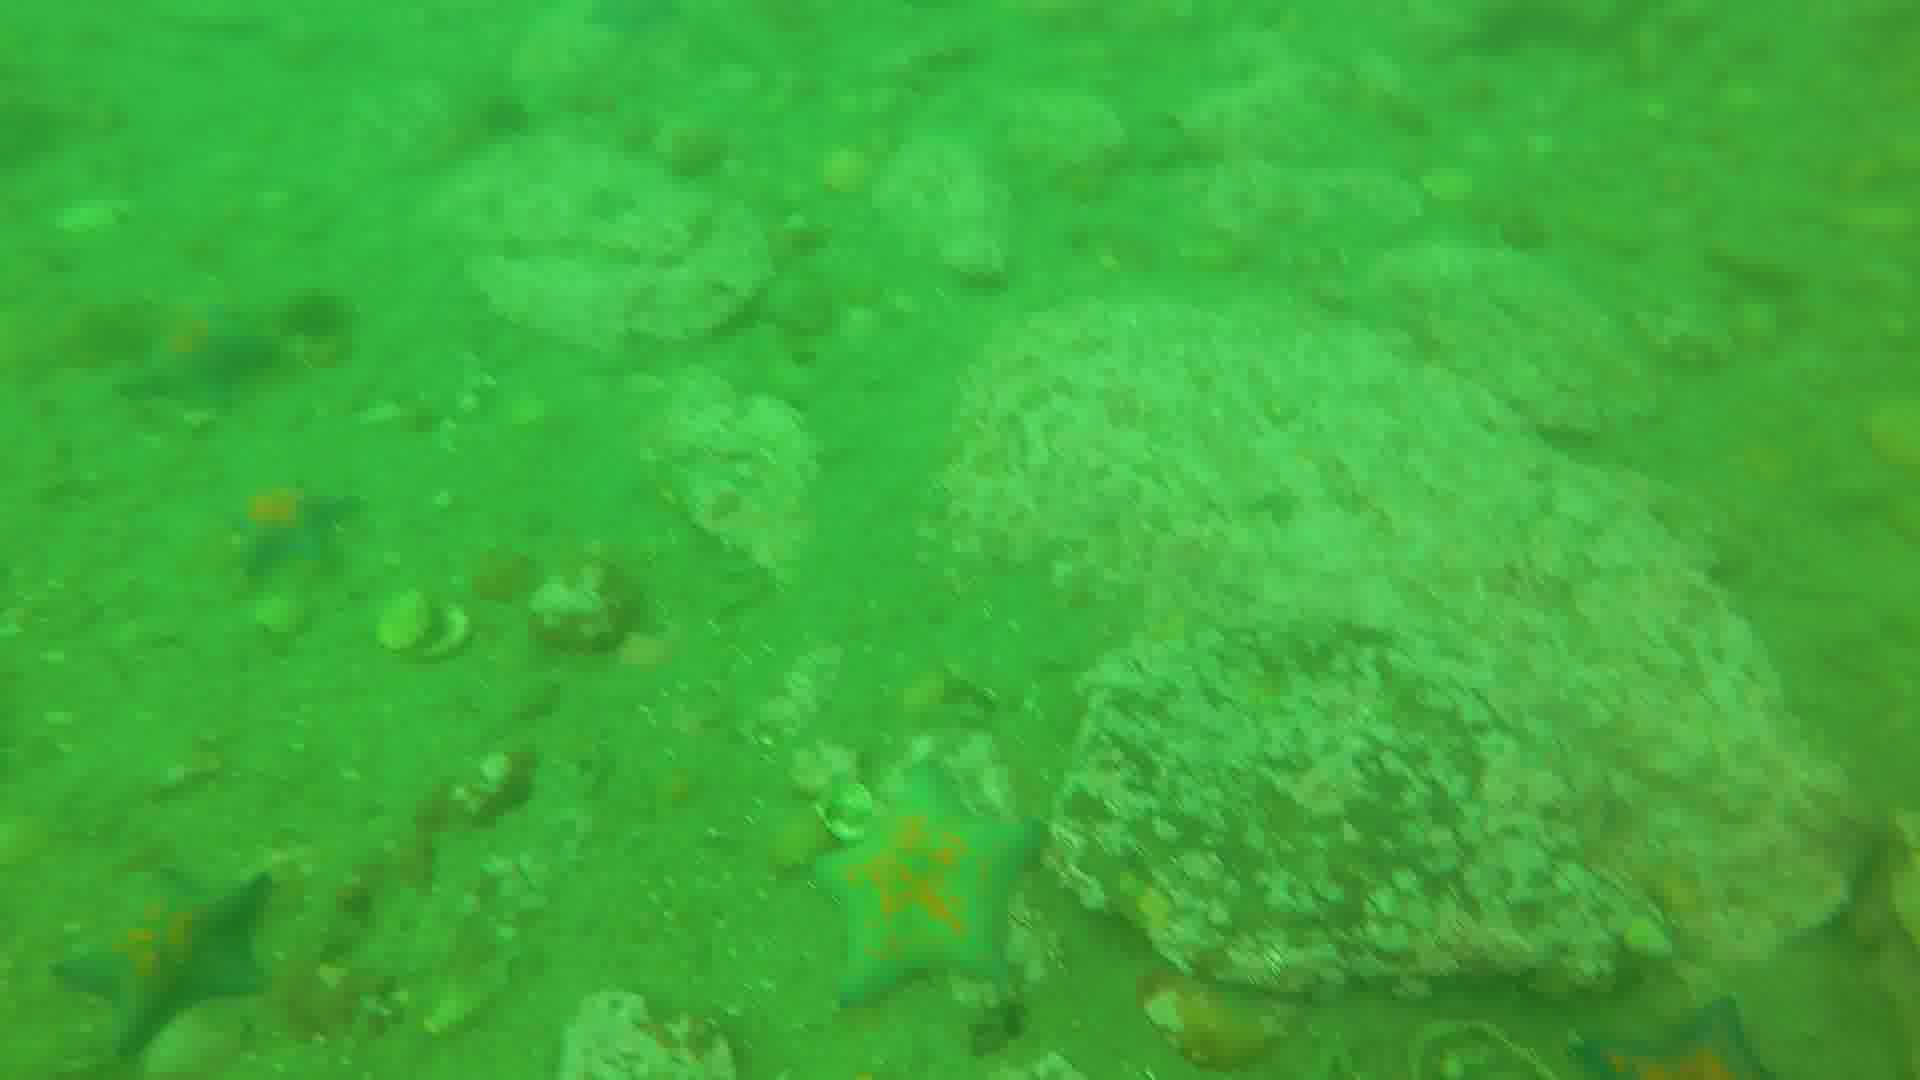scallop: (382, 578, 473, 666)
starfish: (823, 777, 1048, 1015), (54, 877, 272, 1059), (109, 293, 285, 415), (1577, 994, 1788, 1080), (215, 473, 361, 585), (593, 1, 691, 42)
